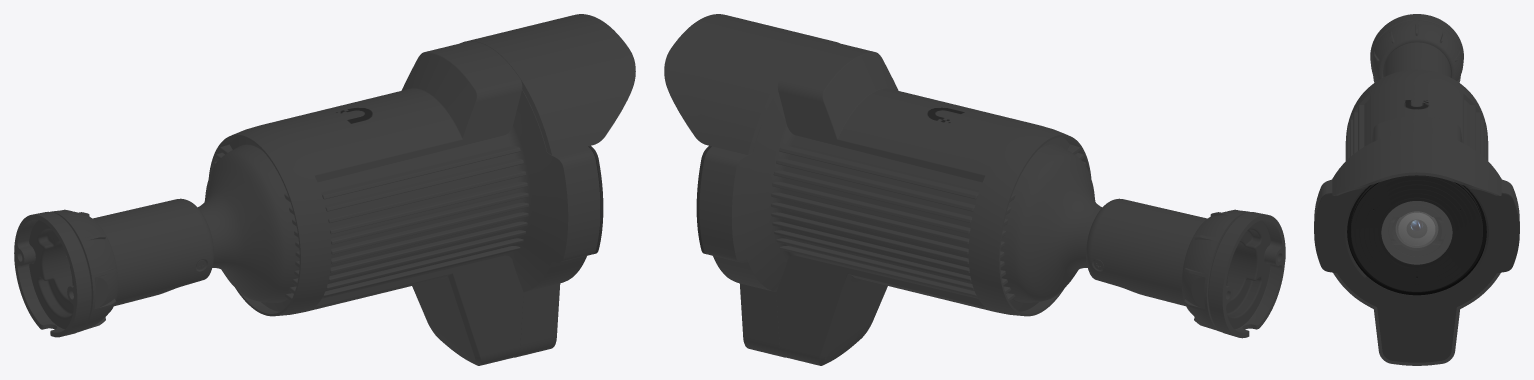
Rendered from uvc-ai-lpr.glb.
The picture shows the model from 3 angles, left to right: view 1: azimuth 30°, elevation 25°; view 2: azimuth 150°, elevation 25°; view 3: azimuth 270°, elevation 25°; orthographic projection. The views are drawn at different scales.
Parts seen in each view (by area): view 1: Camera_Block, Base_Mount; view 2: Camera_Block, Base_Mount; view 3: Camera_Block, Base_Mount, Glass, Glass_inside.
Part boxes in pixels (x1,y1,x2,y2): Camera_Block: (198,14,635,365); Base_Mount: (14,198,213,337); Camera_Block: (664,14,1101,365); Base_Mount: (1086,198,1285,338); Camera_Block: (1314,69,1519,365); Base_Mount: (1370,14,1463,82); Glass: (1381,201,1452,264); Glass_inside: (1399,213,1434,245).
Bounding box in the file's own units: 0.3029 × 0.1538 × 0.13.
2 materials, 1 textured.
